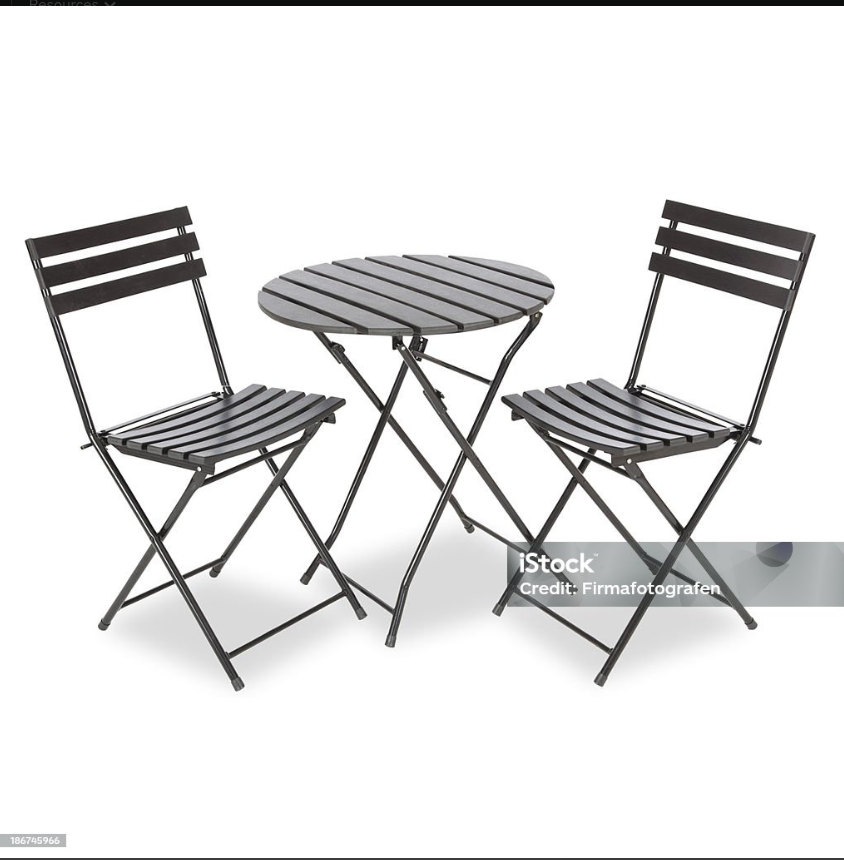obstacle: (22, 202, 371, 686), (500, 196, 816, 689), (262, 249, 601, 645)
